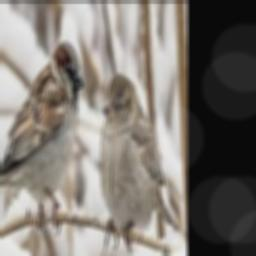Sparrow: (0, 40, 83, 235), (99, 72, 178, 256)
